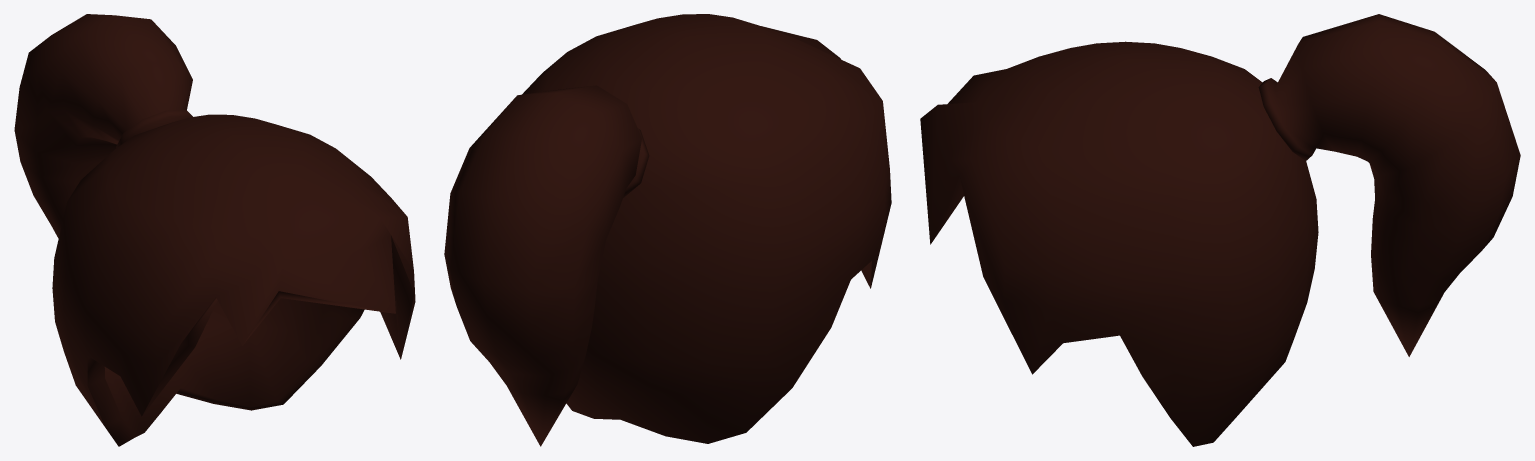
Rendered from Hair11.FBX.
3 renders of one model, left to right at view 1: azimuth 30°, elevation 25°; view 2: azimuth 150°, elevation 25°; view 3: azimuth 270°, elevation 25°, orthographic. The views are drawn at different scales.
Parts seen in each view (by area): view 1: Hair11; view 2: Hair11; view 3: Hair11.
Part boxes in pixels (bbox=[...]): Hair11: bbox=[14, 14, 415, 446]; Hair11: bbox=[444, 14, 891, 446]; Hair11: bbox=[920, 14, 1520, 446].
Bounding box in the file's own units: 442 × 494 × 690.
